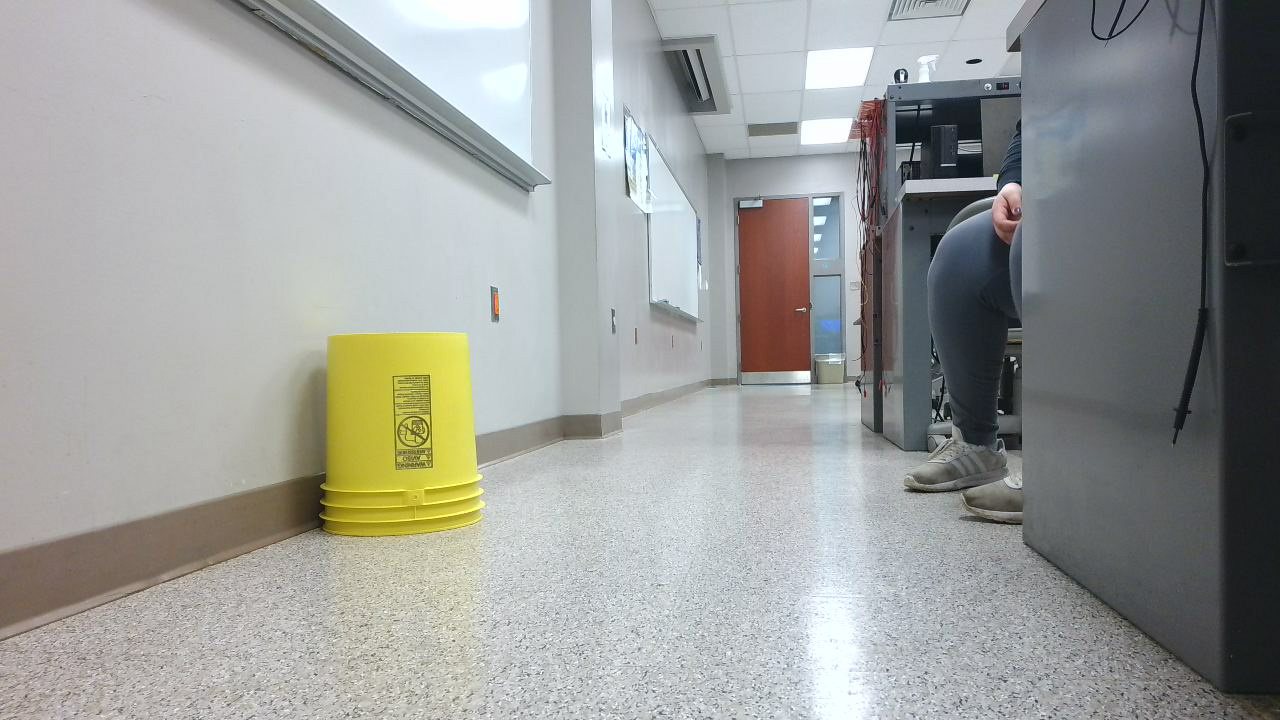yellow_bucket: (318, 332, 496, 548)
